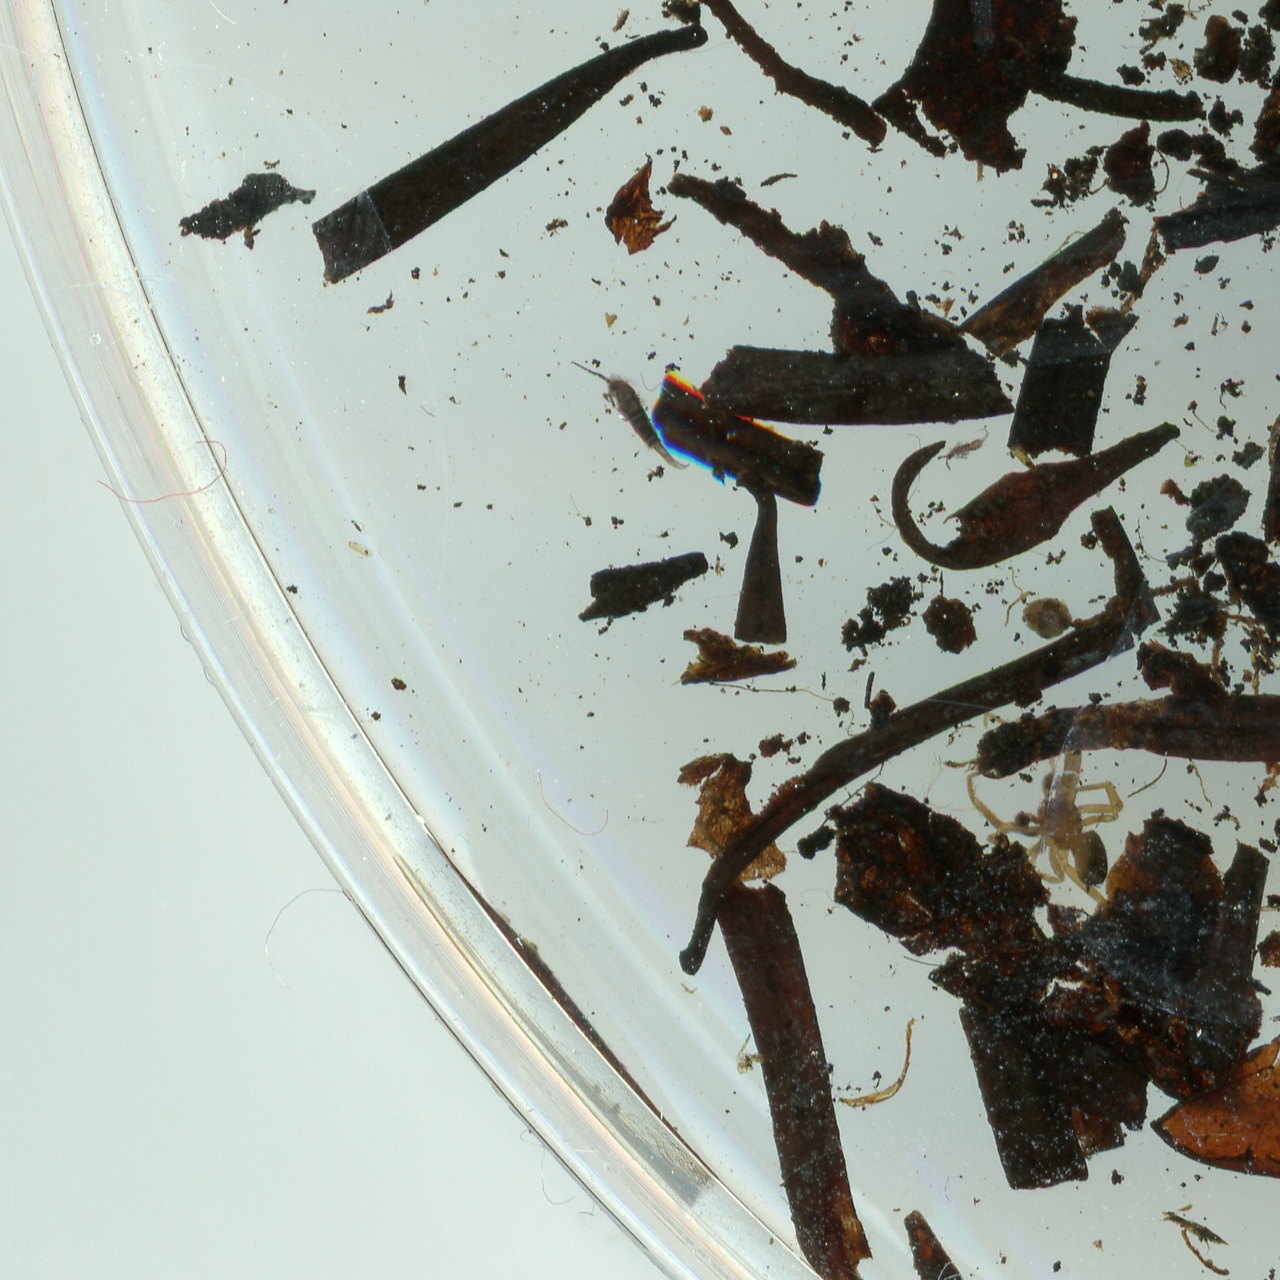arthropod: (970, 774, 1134, 907), (568, 357, 688, 473), (935, 425, 1000, 467)
